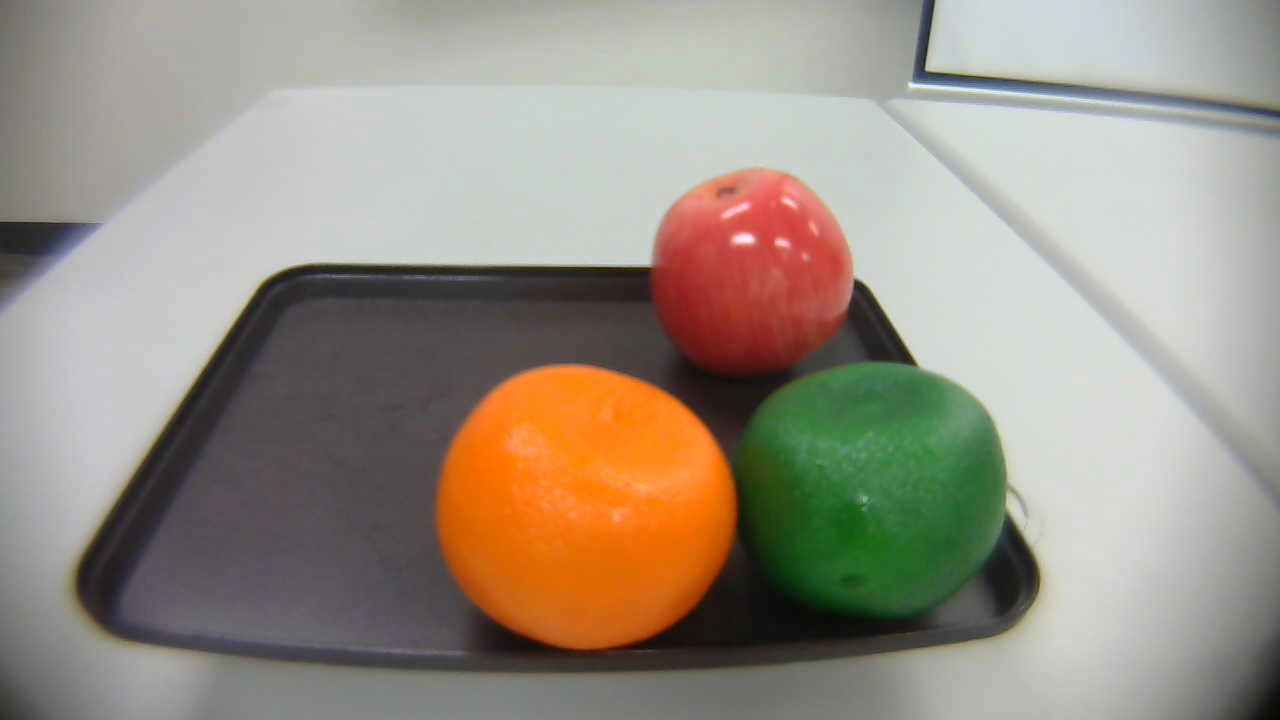green orange: (736, 358, 1017, 622)
orange: (430, 351, 734, 663)
red apple: (639, 159, 859, 385)
